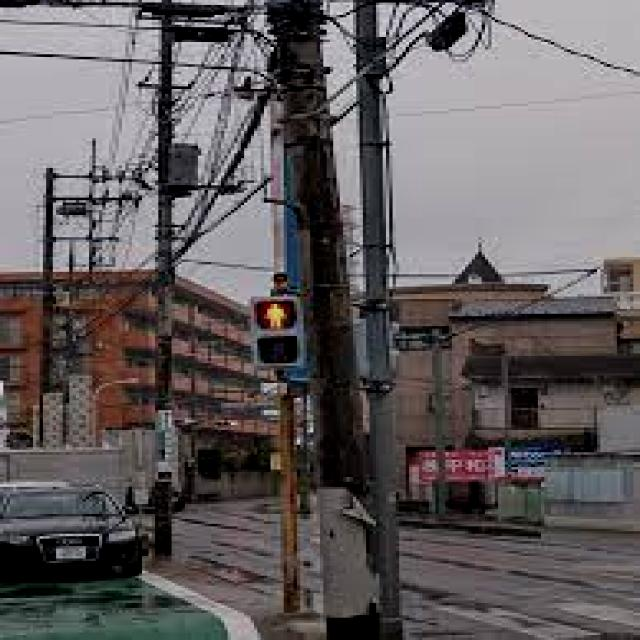trafficlight: (244, 292, 307, 368)
